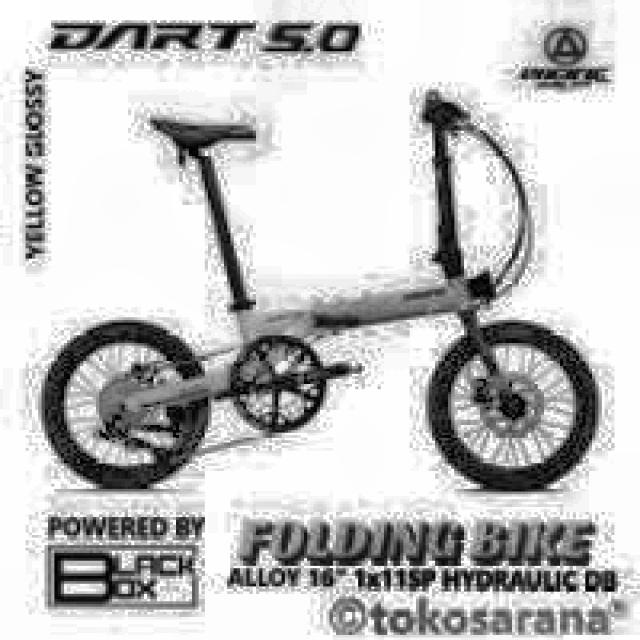motorcycle: (46, 82, 600, 506)
